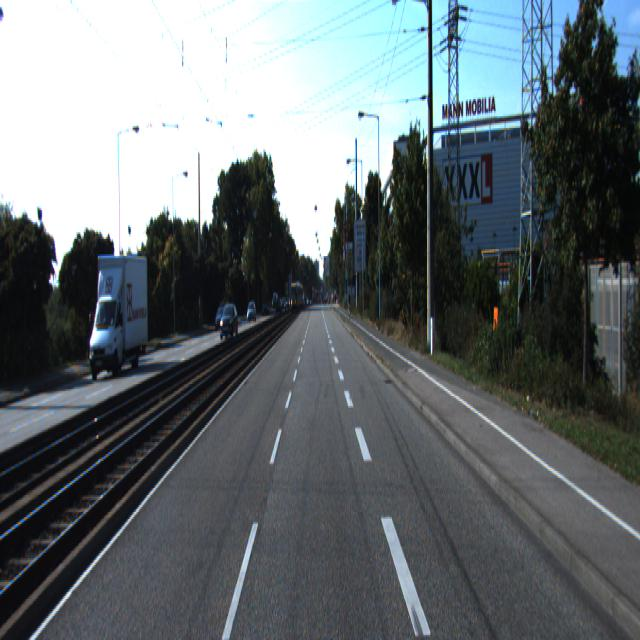Car: (85, 252, 150, 383), (219, 304, 239, 341)
